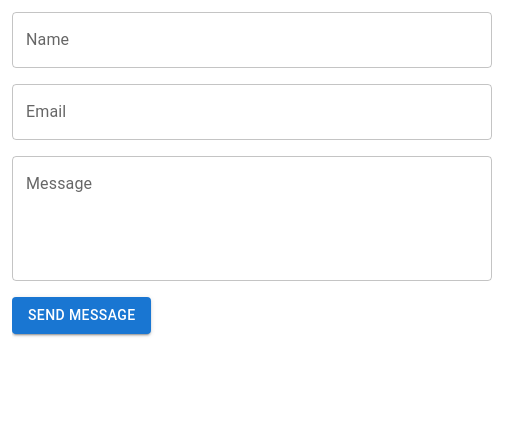
Scenario: shows an invalid-email error without submitting
This screenshot has width=509, height=422.
Type "not-an-email" into the field labelled "Email" at (252, 112), box [12,84,492,140]
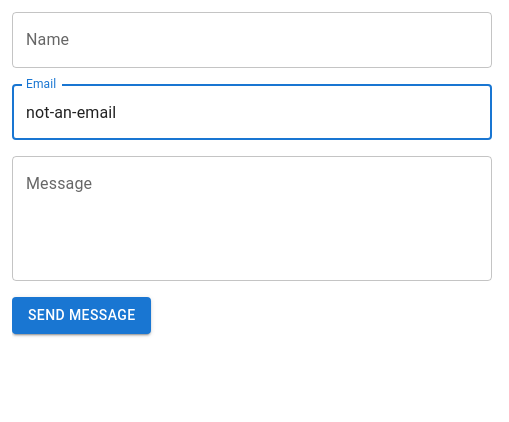
Click the button "Send message" at (82, 315), box [12,297,152,334]
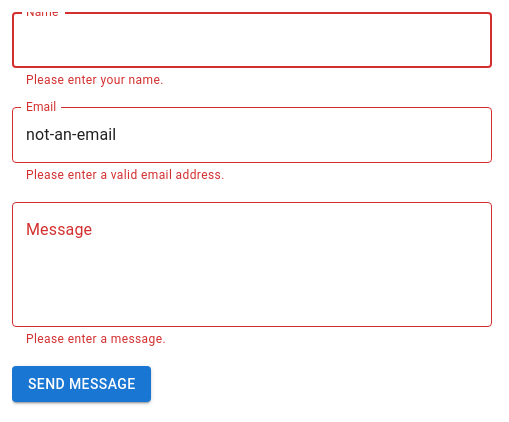
Result: the text "Please enter a valid email address." is shown at [26,168,225,182]
